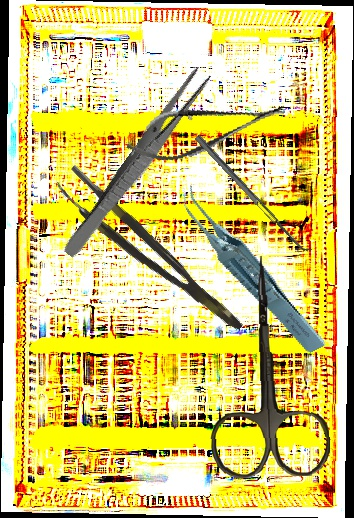Dressing Forceps: (60, 64, 214, 263)
Iris Scissors: (204, 253, 331, 480)
Micro Scissor: (121, 87, 291, 171)
Spatula Surgical: (194, 130, 314, 257)
Tissue Forceps: (51, 162, 247, 348), (177, 162, 327, 374)
